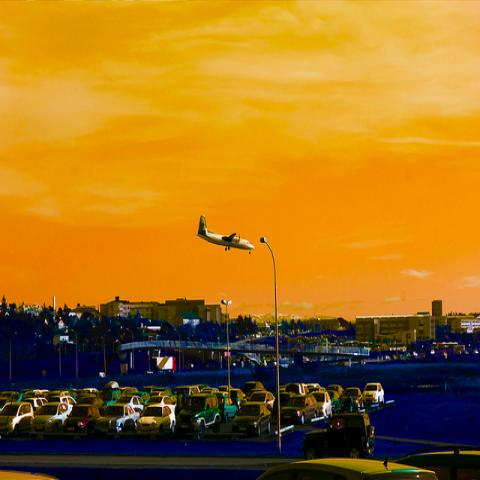car: (62, 387, 363, 438), (303, 410, 373, 459), (176, 392, 220, 442), (138, 404, 176, 441), (0, 400, 35, 439), (281, 391, 321, 424), (232, 402, 270, 436), (363, 383, 384, 404), (102, 388, 123, 406), (48, 395, 77, 408), (248, 391, 275, 404), (46, 390, 77, 400), (83, 388, 98, 392), (33, 390, 51, 393)
truck: (156, 356, 176, 373)
